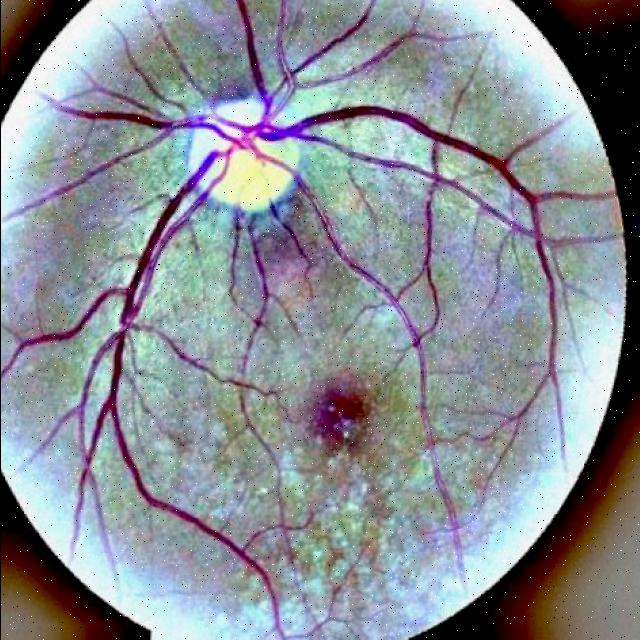Macula: (305, 386, 366, 452)
Nerves: (0, 0, 613, 640), (304, 189, 437, 380)
Optic Disk: (180, 95, 316, 213)
